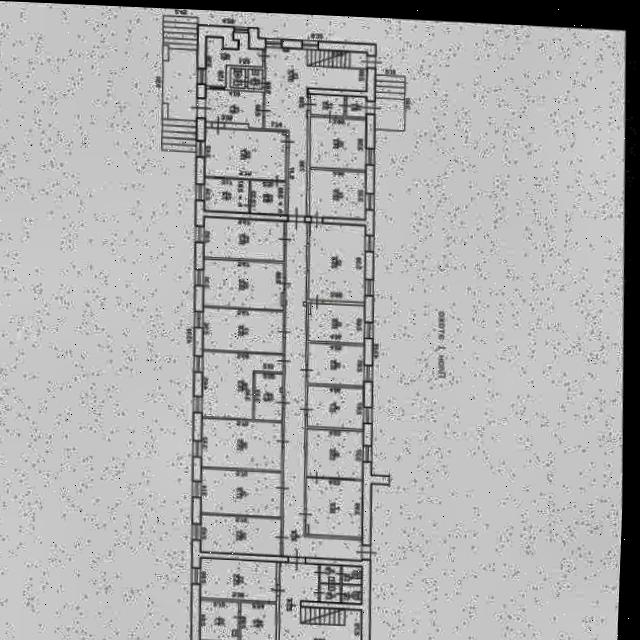room: (283, 220, 369, 559), (266, 46, 372, 216), (279, 561, 363, 640), (202, 350, 285, 419), (166, 15, 202, 150), (207, 126, 292, 180), (202, 417, 286, 470), (312, 222, 368, 301), (204, 258, 289, 308), (201, 467, 285, 516), (203, 306, 287, 352), (206, 215, 289, 260), (200, 557, 279, 601), (200, 514, 284, 555), (307, 477, 365, 536), (210, 31, 267, 87), (312, 116, 372, 169), (307, 427, 367, 478), (312, 168, 371, 218), (308, 384, 367, 428), (309, 342, 368, 385), (310, 301, 369, 343), (208, 88, 269, 128), (378, 74, 409, 129), (207, 177, 253, 212), (201, 599, 239, 640), (241, 601, 277, 640), (256, 372, 284, 420), (253, 179, 290, 214), (313, 93, 349, 115), (350, 95, 370, 116), (342, 564, 364, 583), (342, 583, 363, 602), (320, 583, 342, 601), (321, 564, 342, 582), (252, 68, 267, 88), (234, 67, 249, 87)
